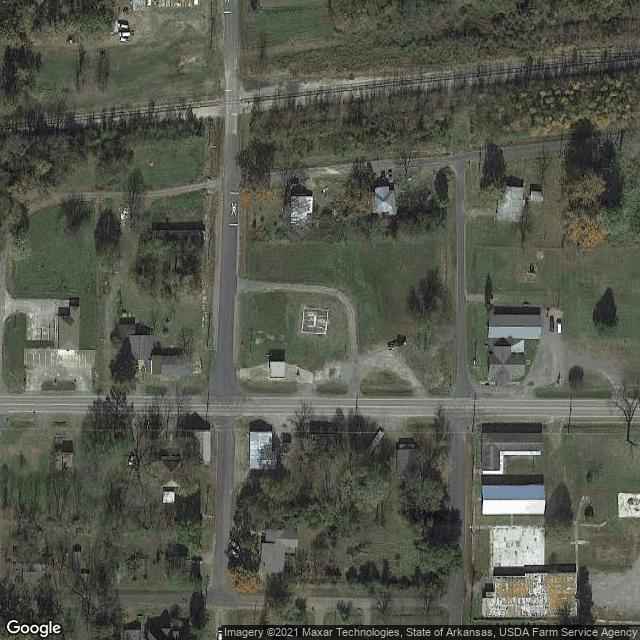Helipad: (299, 304, 332, 336)
